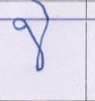e_matra: (29, 0, 53, 18)
